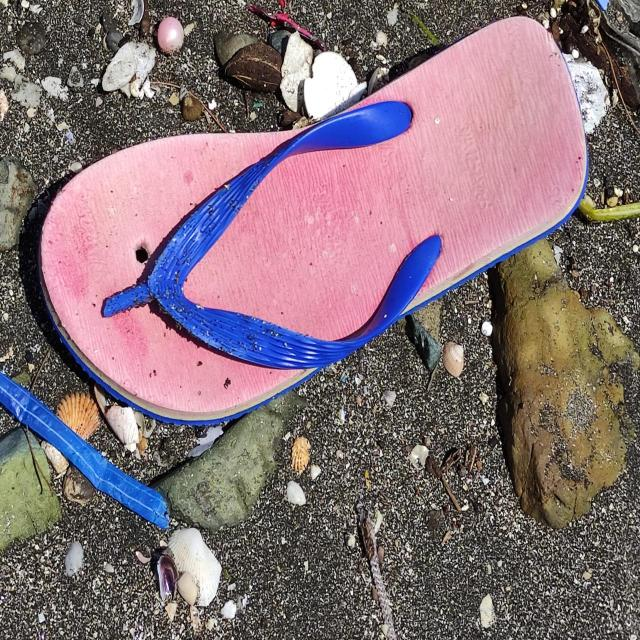rubber_waste: (38, 17, 590, 428)
